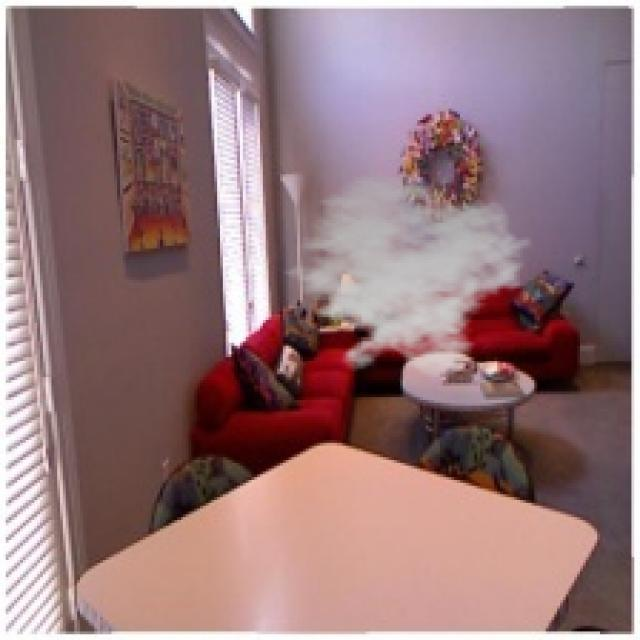Smoke: (268, 171, 534, 380)
